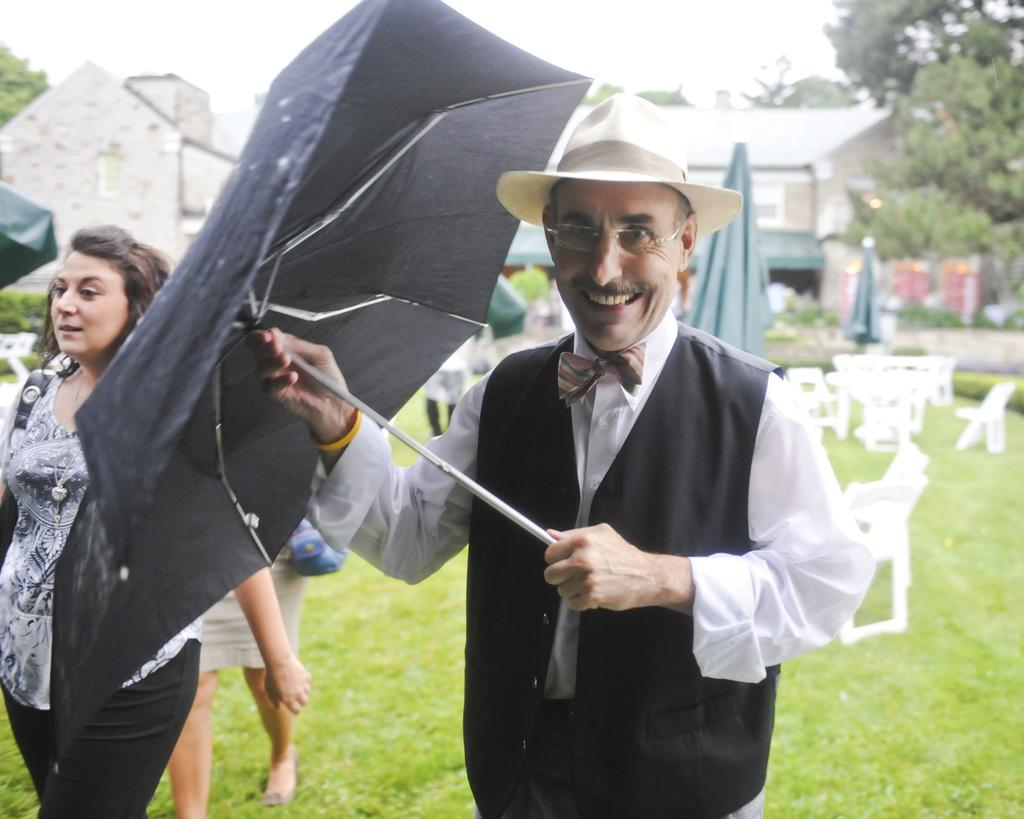Hat: (496, 94, 740, 239)
